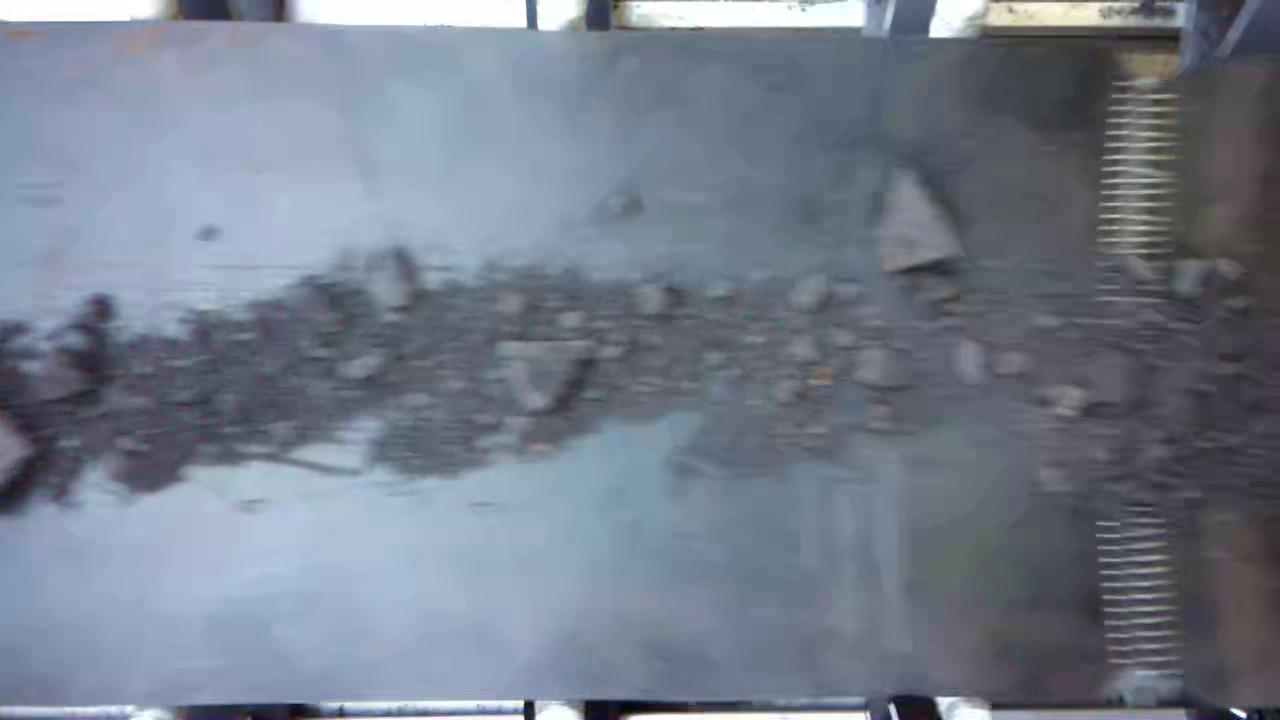conveyor: (5, 35, 1280, 686)
